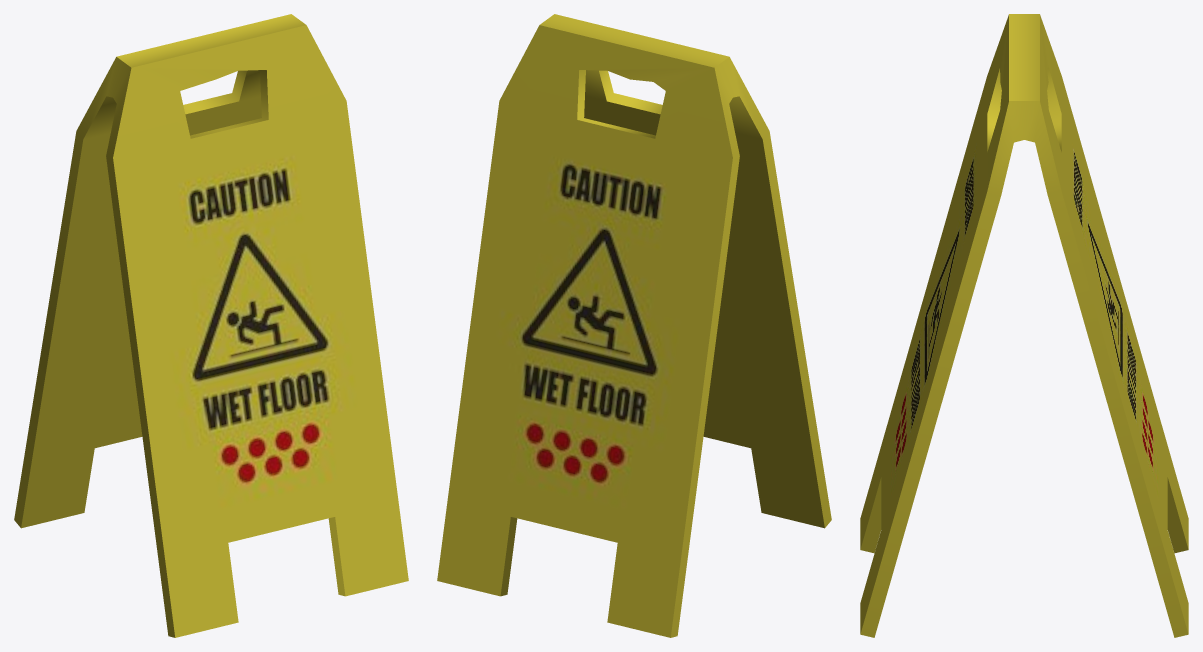
The model's file is WetFloorSign_01.glb.
The picture shows the model from 3 angles, left to right: view 1: azimuth 30°, elevation 25°; view 2: azimuth 150°, elevation 25°; view 3: azimuth 270°, elevation 25°; orthographic projection.
Parts seen in each view (by area): view 1: WetFloorSign_01; view 2: WetFloorSign_01; view 3: WetFloorSign_01.
Part boxes in pixels (x1,y1,x2,y2): WetFloorSign_01: (14,14,408,637); WetFloorSign_01: (437,14,831,637); WetFloorSign_01: (860,14,1188,637).
Bounding box in the file's own units: 0.3001 × 0.6295 × 0.3585.
1 material, 1 textured.
